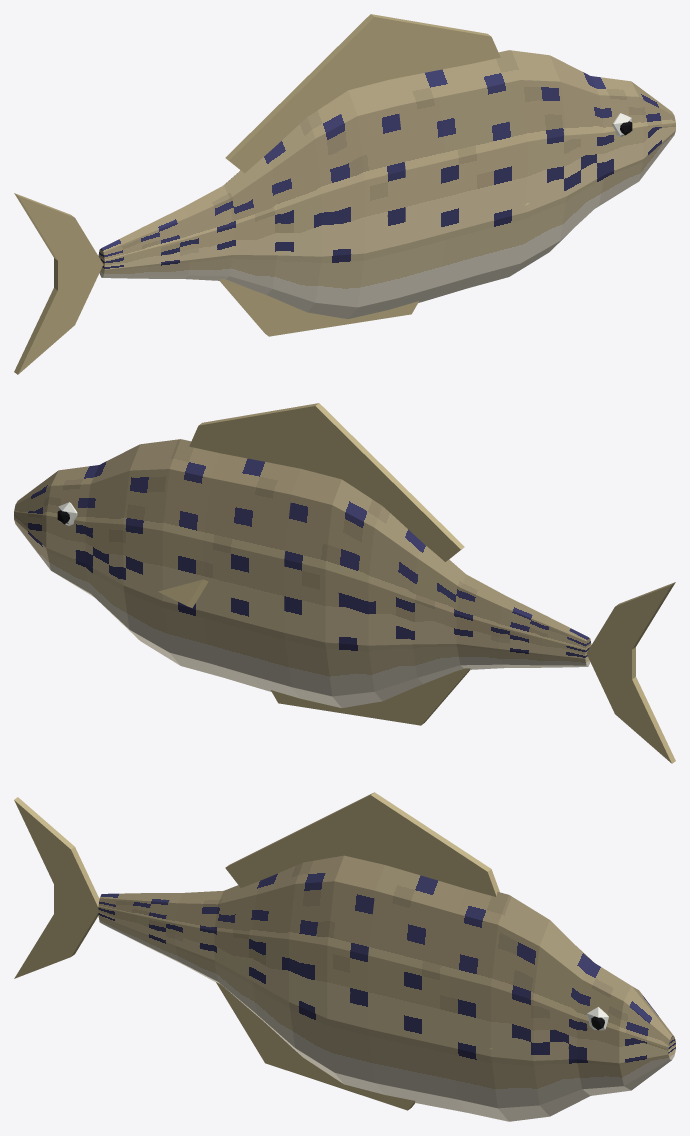
File: lagoon_triggerfish.glb
The picture shows the model from 3 angles, top to bottom: view 1: azimuth 30°, elevation 25°; view 2: azimuth 150°, elevation 25°; view 3: azimuth 330°, elevation 25°; orthographic projection.
Visible parts, largest first — view 1: fish_lagoon_triggerfish; view 2: fish_lagoon_triggerfish; view 3: fish_lagoon_triggerfish.
Part boxes in pixels (x1=…): fish_lagoon_triggerfish: x1=14, y1=14, x2=675, y2=374; fish_lagoon_triggerfish: x1=14, y1=403, x2=675, y2=763; fish_lagoon_triggerfish: x1=14, y1=792, x2=675, y2=1121.
Size of the model in its own units: 1.15 by 0.5132 by 0.1417.
Materials: 4 (1 with a texture image).
